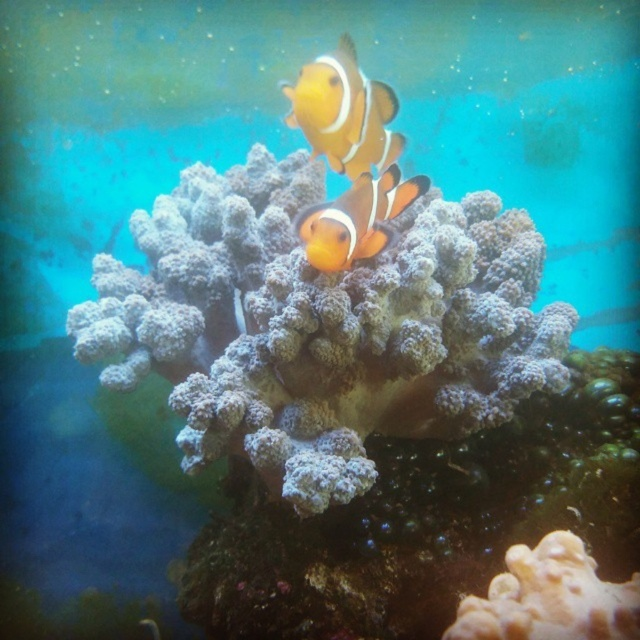Fish: (279, 31, 407, 181), (295, 163, 432, 271)
